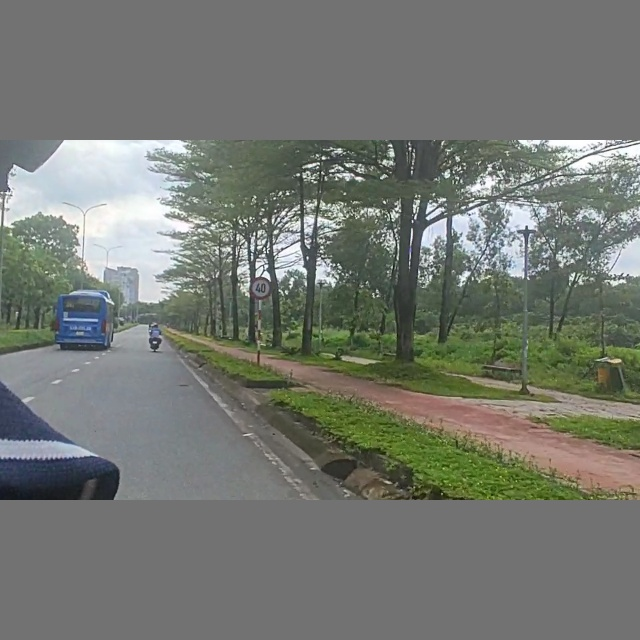P.127*40: (246, 275, 273, 299)
